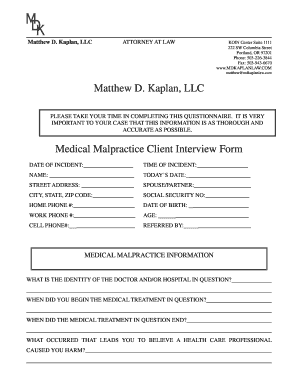textline: (23, 357, 277, 369), (22, 305, 274, 317), (25, 326, 275, 337), (22, 288, 275, 296), (85, 346, 276, 355), (184, 222, 254, 234), (157, 212, 250, 220), (74, 213, 137, 224), (49, 173, 136, 180), (187, 318, 274, 325), (74, 203, 137, 212), (207, 298, 276, 306), (70, 223, 136, 231), (196, 161, 253, 170), (187, 201, 250, 209), (83, 160, 137, 169), (187, 173, 252, 180), (193, 184, 255, 191), (79, 183, 135, 190), (231, 276, 276, 284), (93, 194, 135, 201), (204, 194, 252, 200)
